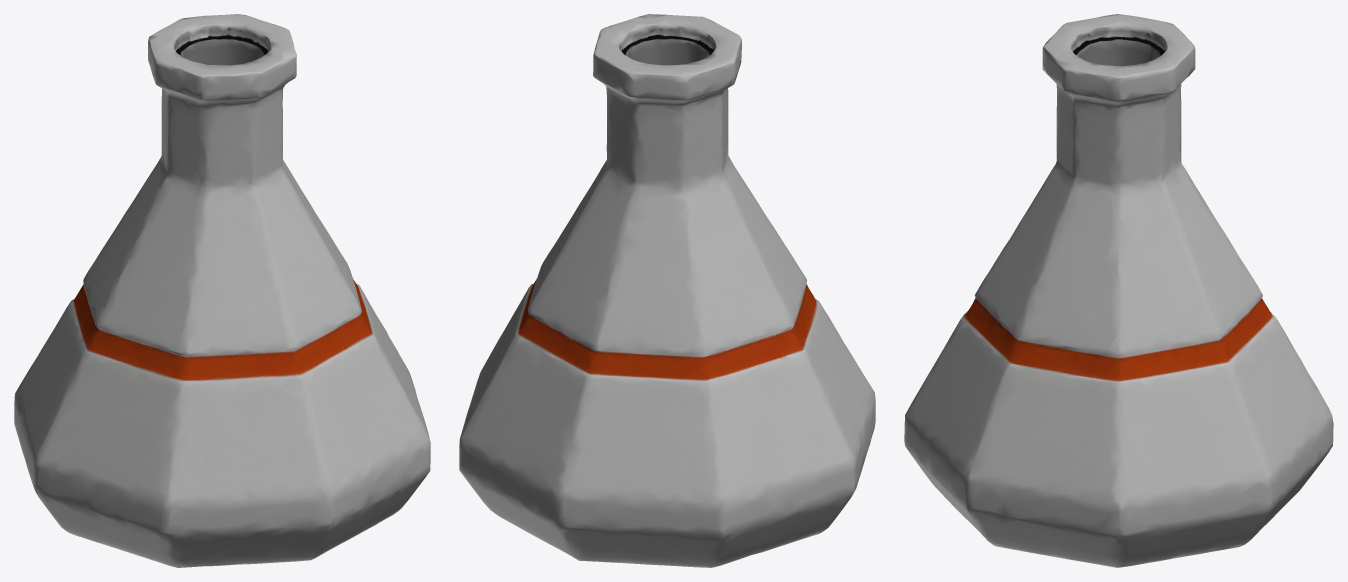
3 views of the same model, side by side, from view 1: azimuth 30°, elevation 25°; view 2: azimuth 150°, elevation 25°; view 3: azimuth 270°, elevation 25° (orthographic).
Parts seen in each view (by area): view 1: tripo_node_7a3491c7-dbd4-4339-98f6-c30f507174d9; view 2: tripo_node_7a3491c7-dbd4-4339-98f6-c30f507174d9; view 3: tripo_node_7a3491c7-dbd4-4339-98f6-c30f507174d9.
Part boxes in pixels (x1,y1,x2,y2): tripo_node_7a3491c7-dbd4-4339-98f6-c30f507174d9: [14, 14, 430, 567]; tripo_node_7a3491c7-dbd4-4339-98f6-c30f507174d9: [459, 14, 875, 567]; tripo_node_7a3491c7-dbd4-4339-98f6-c30f507174d9: [904, 14, 1333, 567].
Bounding box in the file's own units: 0.8659 × 1 × 0.8656.
Materials: 1 (1 with a texture image).
